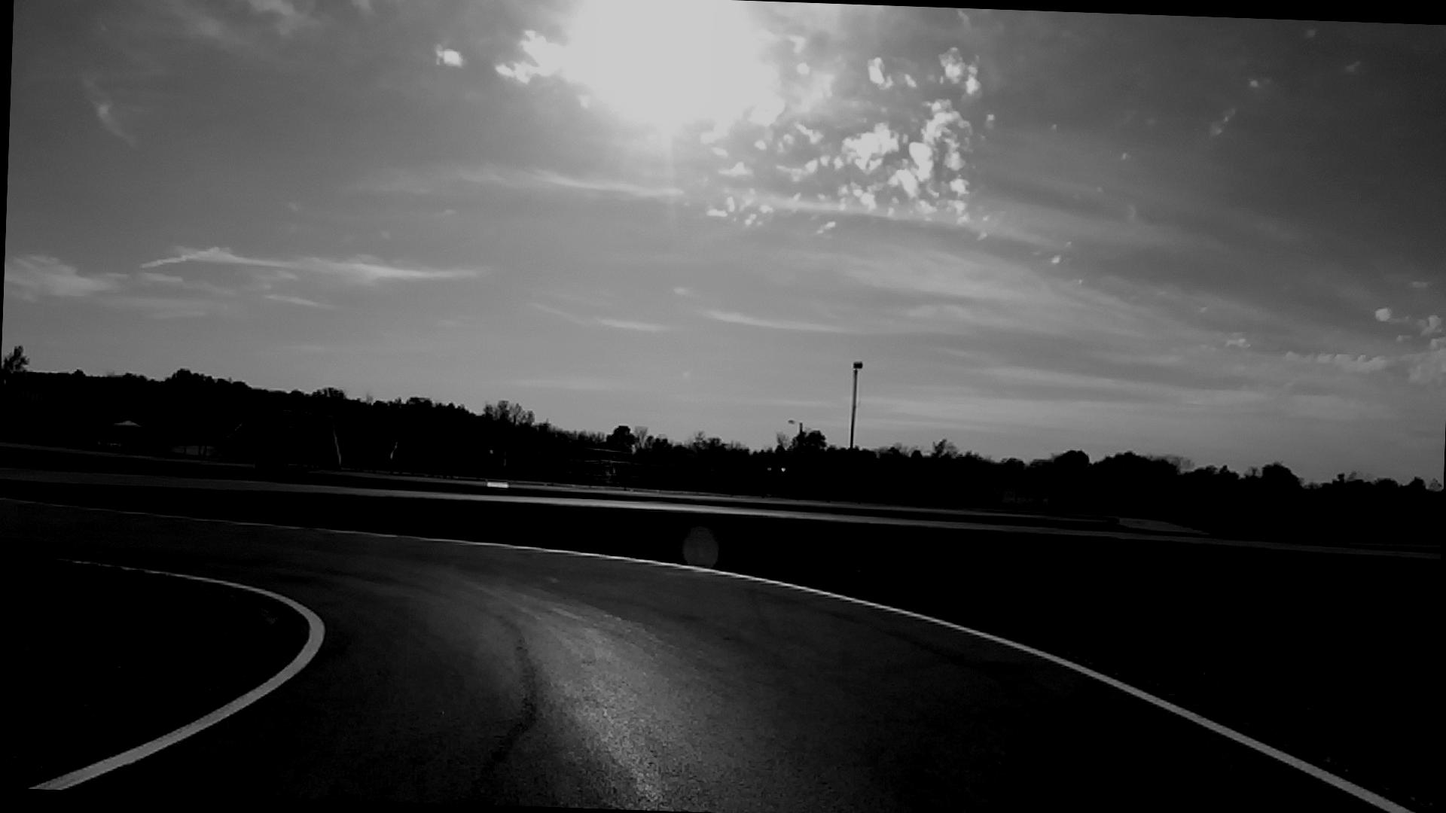white-line: (316, 527, 1421, 813), (29, 566, 324, 790)
